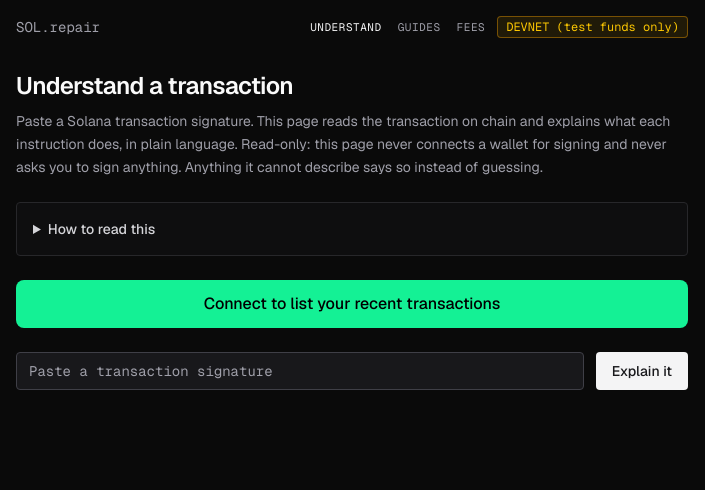
Test: understand page outcomes › says honestly when the transaction data cannot be read
This screenshot has width=705, height=490.
Type "2V4dcrHEApzHDS9PqxWo1KeeK8a3HvVLyPsxVfq3yEktjdqH8NX77nzGZVT4QXTaVy8sWvszA8xDx8N2UrYGfrcw" into the field labelled "Paste a transaction signature" at (300, 371), box left=16, top=352, right=584, bottom=390
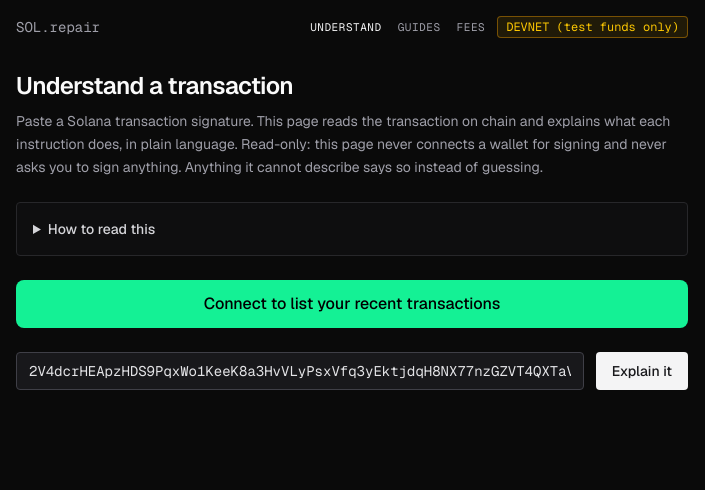
Click the button "Explain it" at (642, 371), box left=596, top=352, right=688, bottom=390
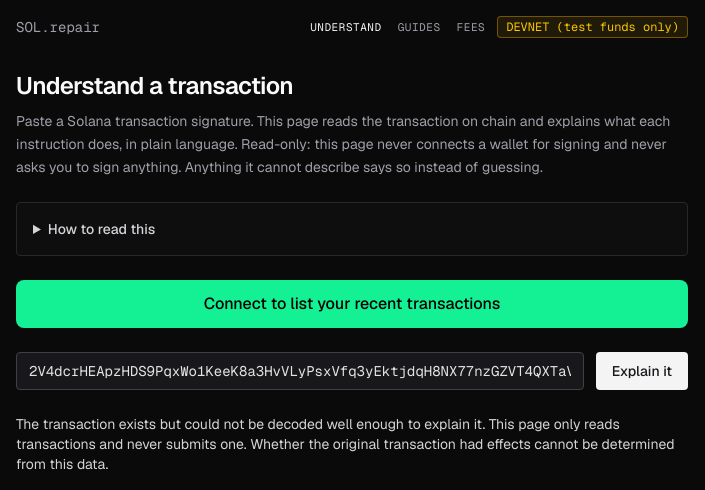
Result: the text "this page only reads transactions and never submits one" is shown at left=16, top=415, right=675, bottom=473
